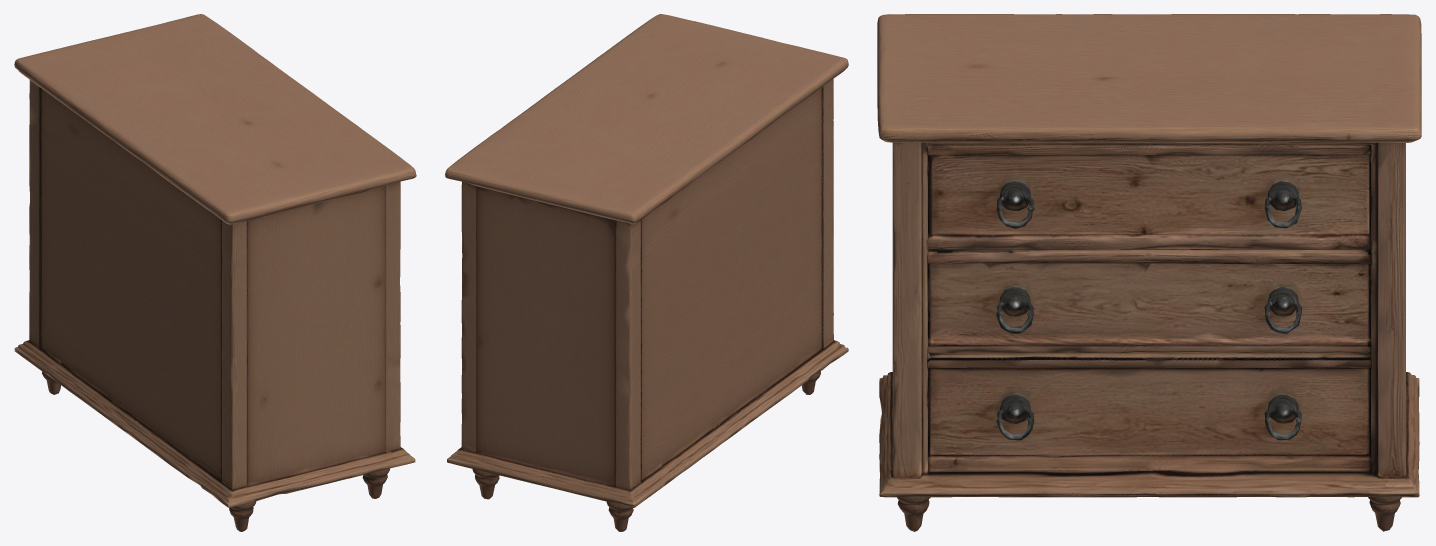
The model's file is faeaf0cd-d828-4738-8d29-c63513fcd8be_model_opt.glb.
The picture shows the model from 3 angles, left to right: view 1: azimuth 30°, elevation 25°; view 2: azimuth 150°, elevation 25°; view 3: azimuth 270°, elevation 25°; orthographic projection. The views are drawn at different scales.
Visible parts, largest first — view 1: tripo_node_0e2f622e-2b35-4358-bc0e-94cbb0057de3; view 2: tripo_node_0e2f622e-2b35-4358-bc0e-94cbb0057de3; view 3: tripo_node_0e2f622e-2b35-4358-bc0e-94cbb0057de3.
Part boxes in pixels (x1,y1,x2,y2): tripo_node_0e2f622e-2b35-4358-bc0e-94cbb0057de3: (14,14,416,531); tripo_node_0e2f622e-2b35-4358-bc0e-94cbb0057de3: (445,14,848,531); tripo_node_0e2f622e-2b35-4358-bc0e-94cbb0057de3: (877,14,1421,531).
Bounding box in the file's own units: 0.5192 × 0.8529 × 1.
1 material, 1 textured.
